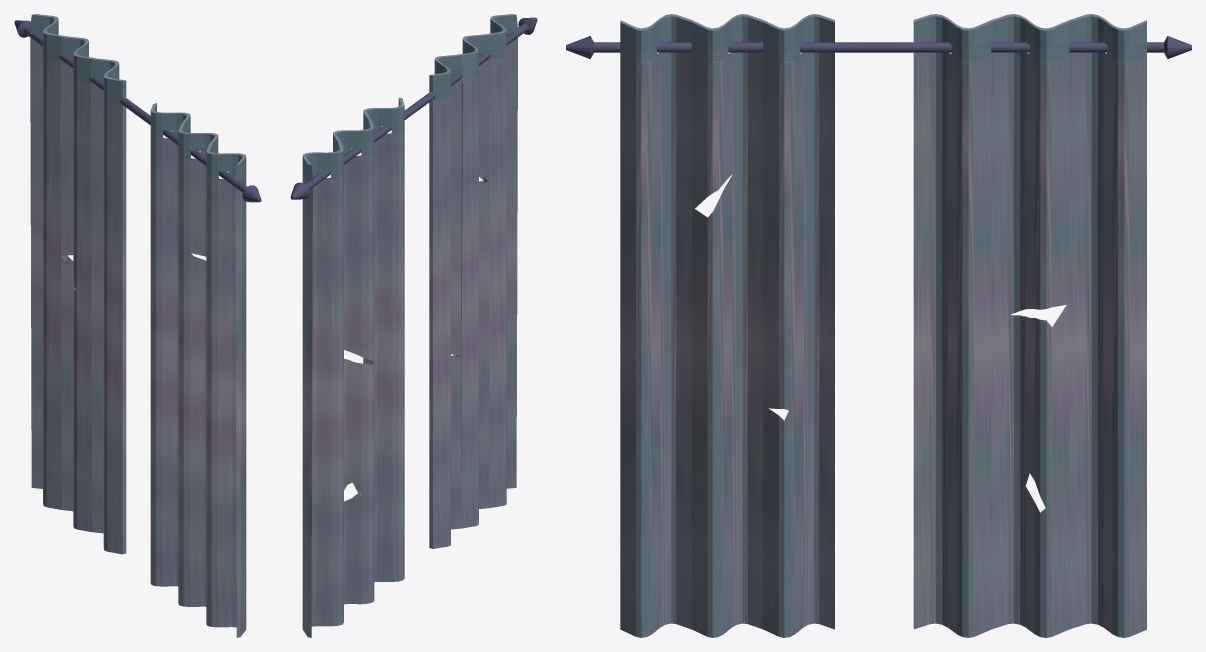
The model's file is cortina.fbx.
The picture shows the model from 3 angles, left to right: view 1: azimuth 30°, elevation 25°; view 2: azimuth 150°, elevation 25°; view 3: azimuth 270°, elevation 25°; orthographic projection. The views are drawn at different scales.
Visible parts, largest first — view 1: Cube, Cylinder.001; view 2: Cube, Cylinder.001; view 3: Cube, Cylinder.001.
Part boxes in pixels (<box>): Cube: <box>30,14,246,637</box>; Cylinder.001: <box>14,20,261,202</box>; Cube: <box>302,14,517,637</box>; Cylinder.001: <box>290,17,537,199</box>; Cube: <box>620,14,1146,637</box>; Cylinder.001: <box>566,36,1191,59</box>.
Size of the model in its own units: 95.62 by 1610 by 1503.
2 materials, 2 textured.
